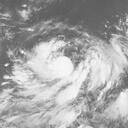cyclone: (11, 37, 76, 103)
